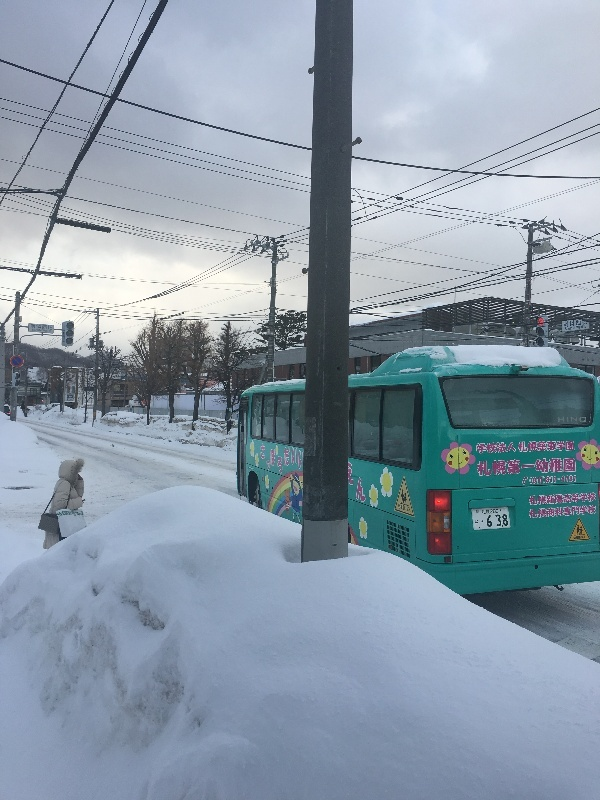text: (273, 442, 288, 483), (289, 442, 304, 483), (353, 461, 366, 504), (261, 442, 272, 483), (481, 458, 496, 476), (497, 458, 512, 476), (513, 458, 528, 476), (529, 458, 544, 476), (545, 458, 560, 476), (561, 458, 576, 476), (481, 441, 496, 454), (497, 441, 512, 454), (513, 441, 528, 454), (529, 441, 544, 454), (545, 441, 560, 454), (529, 493, 544, 506), (545, 493, 560, 506), (561, 493, 576, 506), (577, 493, 592, 506), (529, 505, 544, 518), (545, 505, 560, 518), (561, 505, 576, 518), (577, 505, 592, 518), (561, 441, 574, 454), (497, 514, 509, 527), (349, 461, 352, 504), (545, 476, 560, 484), (561, 476, 576, 484), (530, 476, 544, 484), (487, 515, 496, 527), (564, 319, 576, 328), (577, 319, 588, 328), (401, 503, 411, 512), (33, 324, 48, 330), (65, 511, 80, 517), (577, 325, 592, 330), (482, 510, 496, 514), (477, 458, 480, 476), (476, 441, 480, 454), (565, 327, 576, 331), (57, 511, 64, 517), (593, 493, 596, 506), (593, 505, 596, 518), (577, 536, 586, 540), (33, 329, 42, 332), (49, 324, 53, 330), (475, 520, 480, 524), (398, 503, 400, 512), (81, 511, 84, 517), (43, 329, 48, 332), (574, 536, 576, 540), (497, 510, 499, 514), (31, 324, 32, 330), (49, 329, 51, 332)
